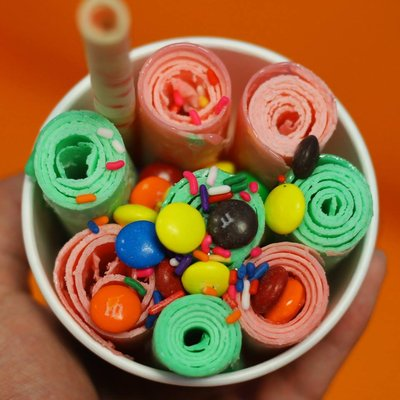pizza: (133, 43, 234, 172)
taco: (90, 280, 142, 334)
